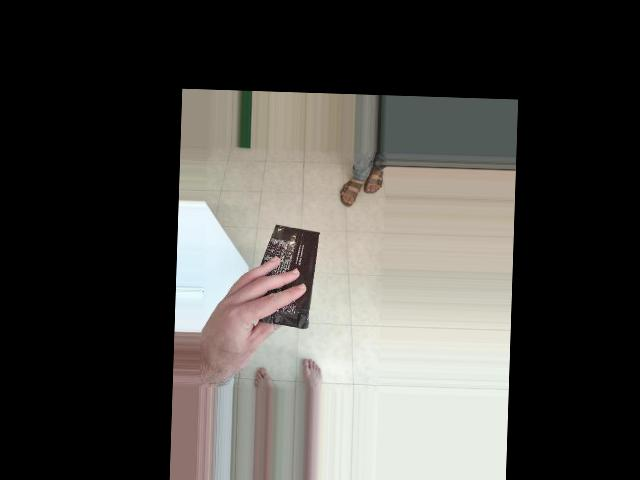chocolate: (275, 210, 397, 294)
